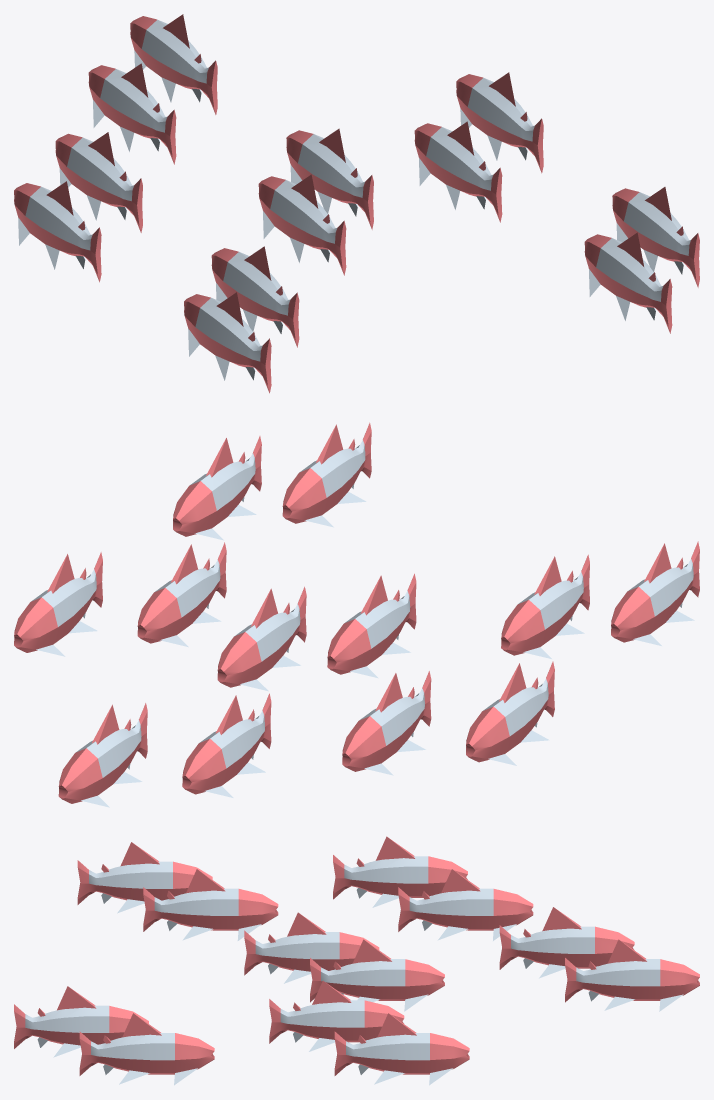
Rendered from fish.glb.
The picture shows the model from 3 angles, top to bottom: view 1: azimuth 30°, elevation 25°; view 2: azimuth 150°, elevation 25°; view 3: azimuth 270°, elevation 25°; orthographic projection. The views are drawn at different scales.
Visible parts, largest first — view 1: fish.001; view 2: fish.001; view 3: fish.001.
Boxes of the visible parts, x1,y1,x2,y2 form: fish.001: (14, 14, 699, 393); fish.001: (14, 422, 699, 807); fish.001: (14, 836, 699, 1085).
Bounding box in the file's own units: 4.42 × 0.6723 × 6.58.
